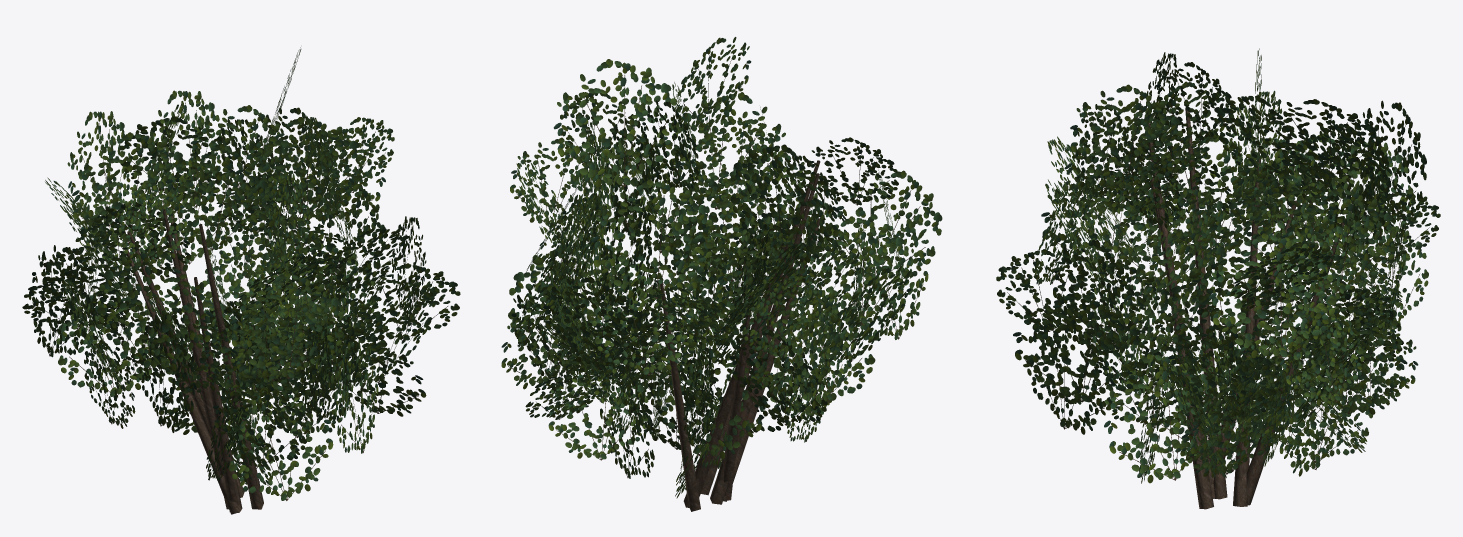
File: tpl_yard_old_yard_hawthorn.glb
3 views of the same model, side by side, from view 1: azimuth 30°, elevation 25°; view 2: azimuth 150°, elevation 25°; view 3: azimuth 270°, elevation 25° (orthographic). The views are drawn at different scales.
Visible parts, largest first — view 1: tpl_yard_old_yard_hawthorn; view 2: tpl_yard_old_yard_hawthorn; view 3: tpl_yard_old_yard_hawthorn.
Part boxes in pixels (bbox=[...]): tpl_yard_old_yard_hawthorn: bbox=[22, 47, 460, 514]; tpl_yard_old_yard_hawthorn: bbox=[501, 37, 942, 511]; tpl_yard_old_yard_hawthorn: bbox=[996, 48, 1440, 509].
Size of the model in its own units: 3.81 by 4.04 by 3.69.
2 materials, 2 textured.
